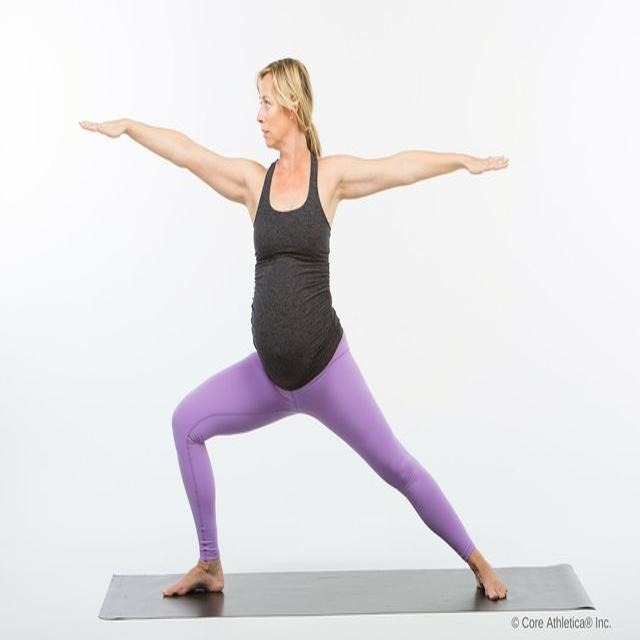Warrior_II: (75, 55, 508, 606)
